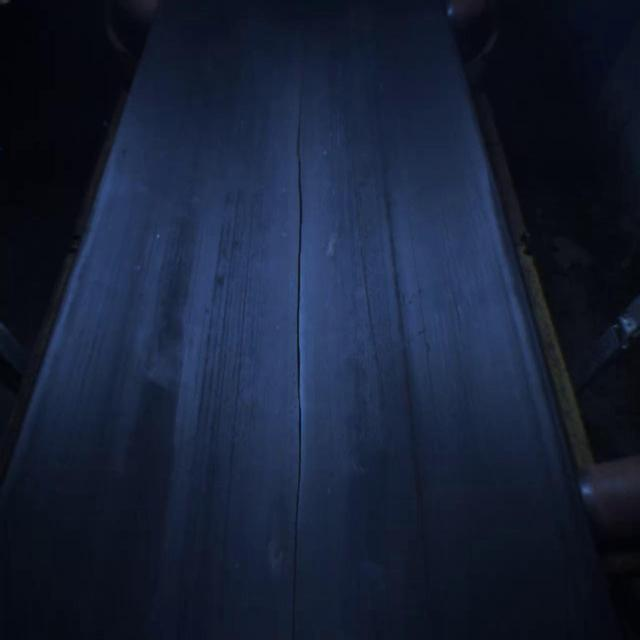Tear: (282, 38, 314, 640)
